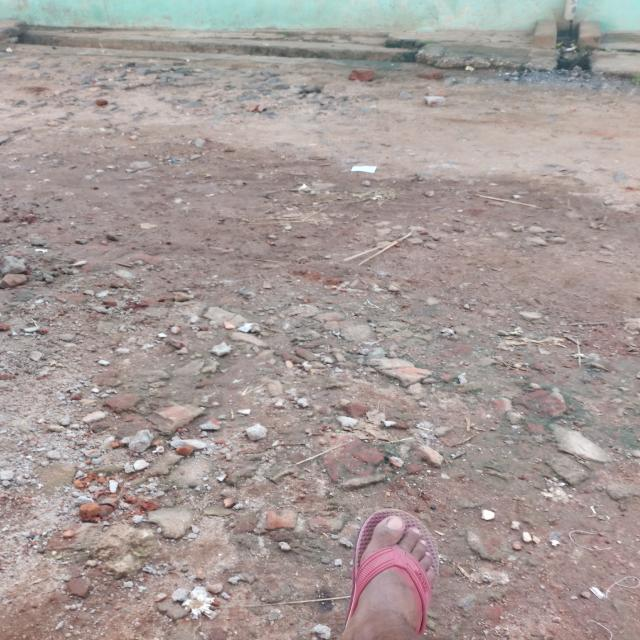potholes: (21, 162, 635, 630)
